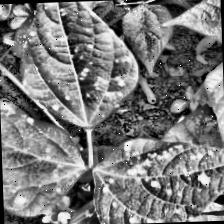Bean Rust: (19, 0, 139, 126), (93, 134, 224, 224), (0, 94, 85, 219)
